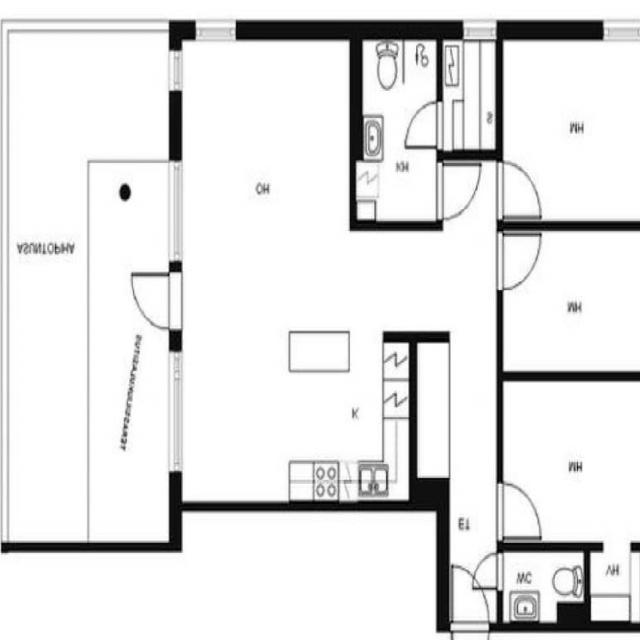door: (134, 274, 182, 328), (452, 566, 490, 632), (497, 162, 540, 218), (436, 164, 479, 219), (497, 484, 539, 538), (497, 234, 539, 288), (407, 102, 442, 148), (474, 553, 503, 588), (452, 622, 490, 640)
